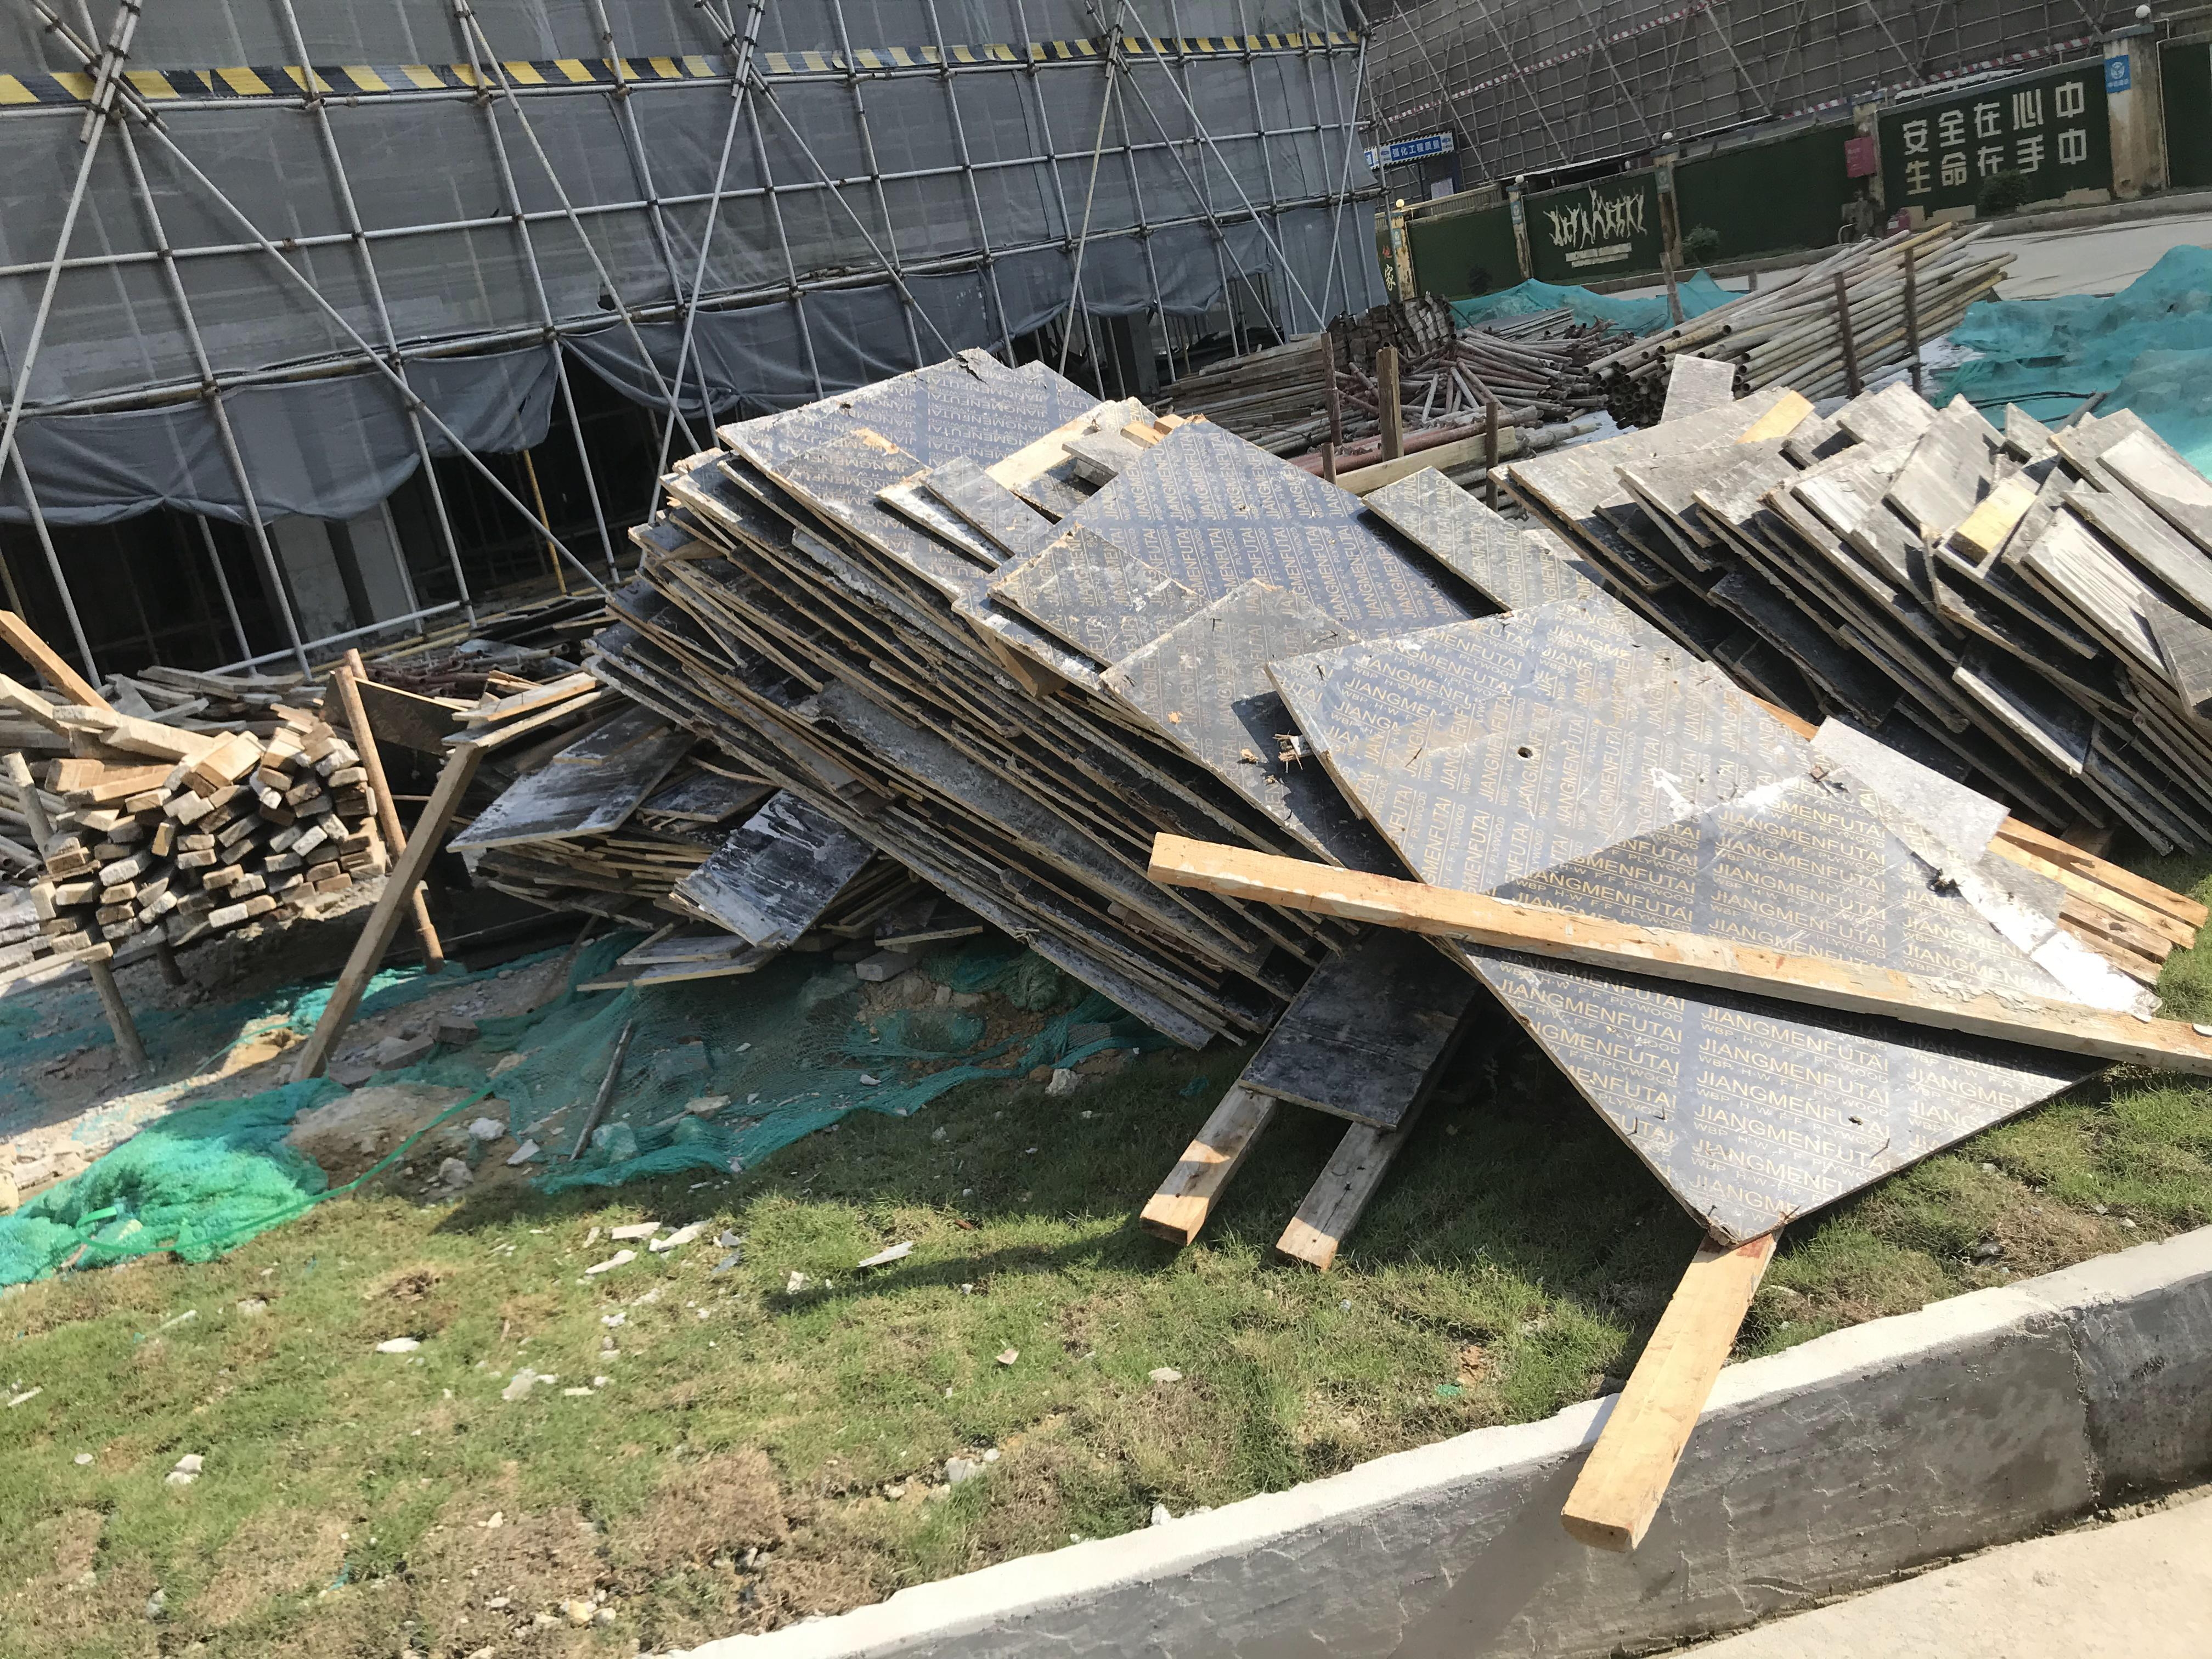board: (597, 350, 1313, 1054), (1576, 390, 2212, 861)
wood: (44, 702, 380, 950), (1172, 338, 1329, 410)
